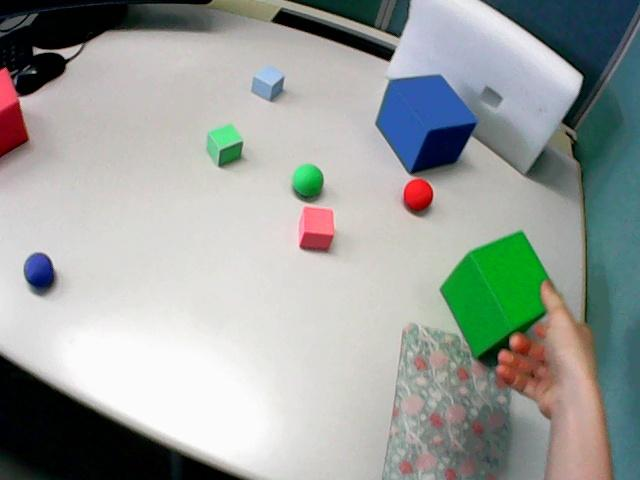blue_block: (376, 75, 476, 172), (252, 66, 284, 100)
red_block: (0, 68, 27, 156), (299, 207, 334, 249)
